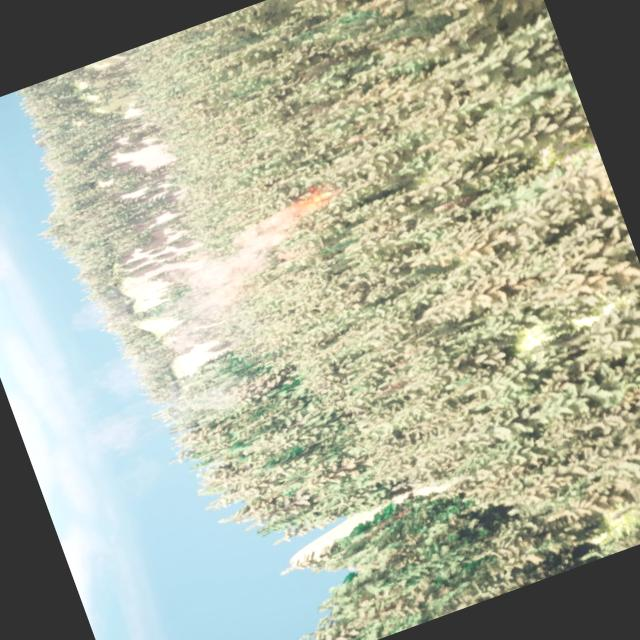fire: (280, 179, 344, 221)
smoke: (144, 212, 318, 344)
